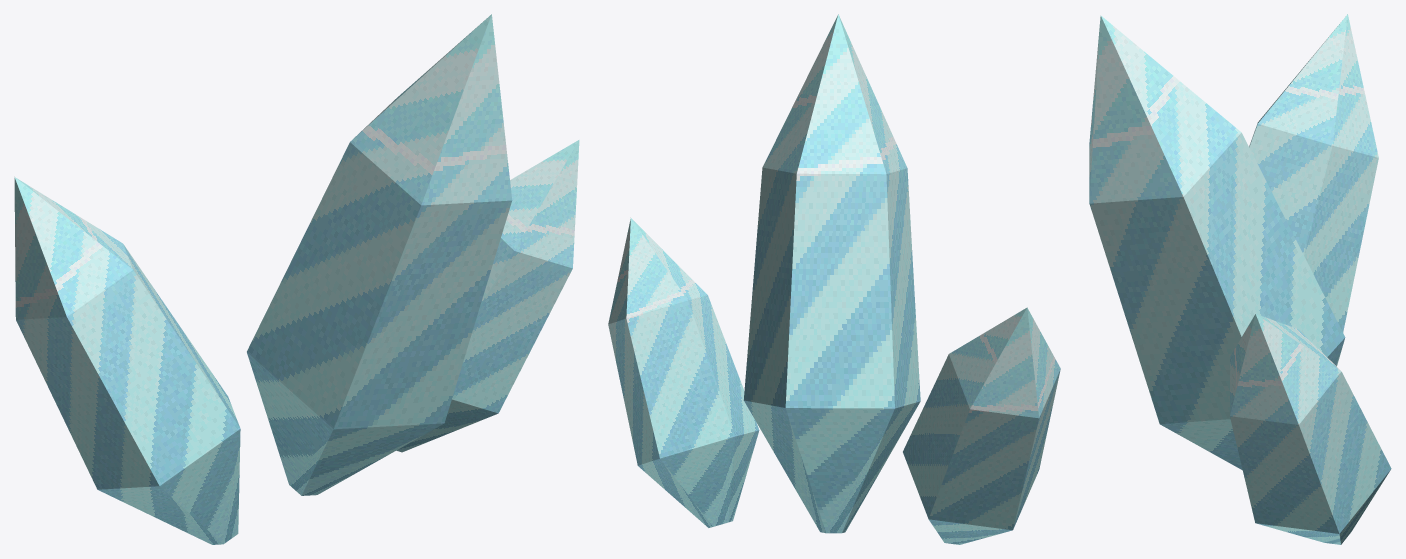
The model's file is estilhaco_de_gelo.glb.
3 views of the same model, side by side, from view 1: azimuth 30°, elevation 25°; view 2: azimuth 150°, elevation 25°; view 3: azimuth 270°, elevation 25° (orthographic). The views are drawn at different scales.
Parts seen in each view (by area): view 1: estilhaco_de_gelo; view 2: estilhaco_de_gelo; view 3: estilhaco_de_gelo.
Boxes of the visible parts, x1=… form: estilhaco_de_gelo: x1=14, y1=14, x2=579, y2=544; estilhaco_de_gelo: x1=608, y1=14, x2=1060, y2=544; estilhaco_de_gelo: x1=1089, y1=14, x2=1391, y2=544.
Size of the model in its own units: 0.7334 by 0.7009 by 0.3718.
Materials: 1 (1 with a texture image).
